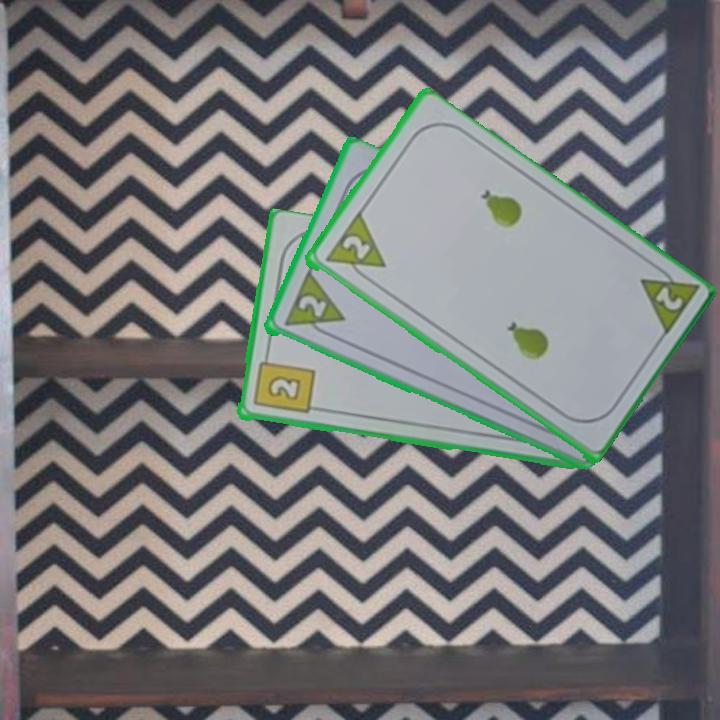2b: (249, 349, 317, 417)
2p: (635, 258, 701, 341), (338, 231, 373, 263), (294, 291, 329, 321)
